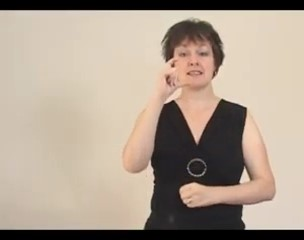C: (148, 54, 197, 98)
